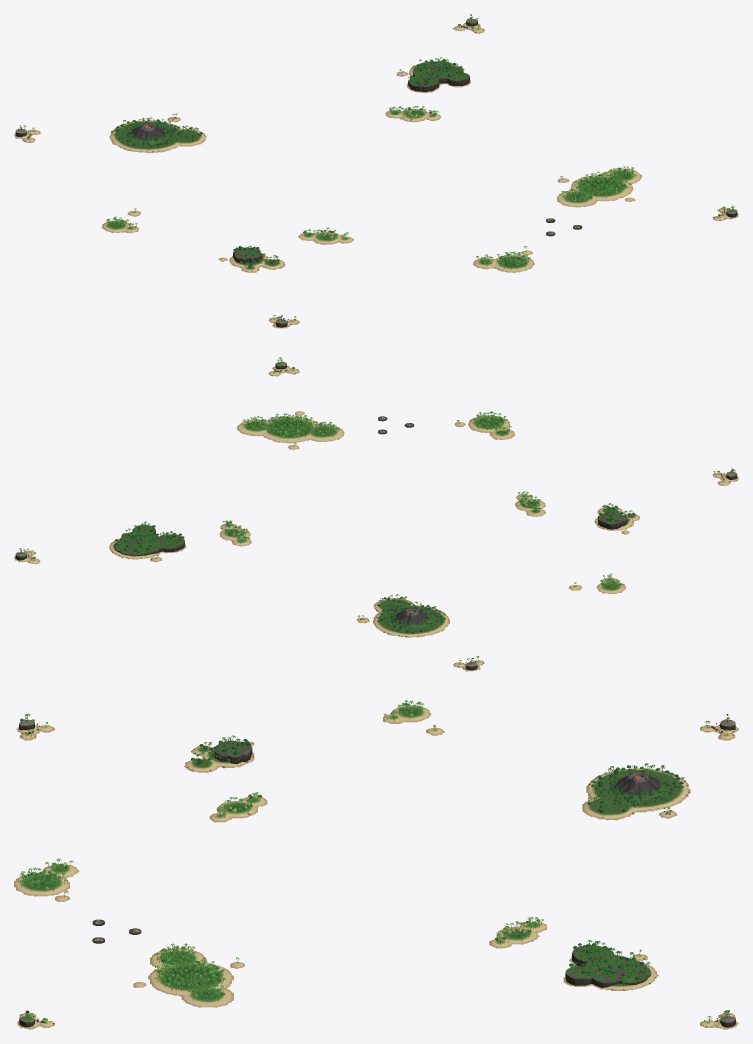
Rendered from islands.31481120.glb.
The picture shows the model from 3 angles, top to bottom: view 1: azimuth 30°, elevation 25°; view 2: azimuth 150°, elevation 25°; view 3: azimuth 270°, elevation 25°; orthographic projection. The views are drawn at different scales.
Visible parts, largest first — view 1: island_I3_lod0, island_I1_lod0, island_I4_lod0, island_I2_lod0, island_I5_lod0, island_T1_lod0, island_T2_lod0; view 2: island_I3_lod0, island_I1_lod0, island_I4_lod0, island_I5_lod0, island_I2_lod0, island_T1_lod0, island_T2_lod0; view 3: island_I3_lod0, island_I1_lod0, island_I4_lod0, island_I2_lod0, island_I5_lod0, island_T1_lod0, island_T2_lod0, island_I6_lod0.
Part boxes in pixels (x1,y1,x2,y2): island_I3_lod0: (109,113,206,153); island_I1_lod0: (557,166,641,207); island_I4_lod0: (396,57,470,93); island_I2_lod0: (218,246,285,272); island_I5_lod0: (473,246,534,272); island_T1_lod0: (385,106,441,122); island_T2_lod0: (298,227,353,244); island_I3_lod0: (356,594,449,637); island_I1_lod0: (237,411,344,449); island_I4_lod0: (109,521,186,562); island_I5_lod0: (454,411,514,439); island_I2_lod0: (594,503,640,534); island_T1_lod0: (219,520,251,546); island_T2_lod0: (515,491,545,516); island_I3_lod0: (582,763,690,820); island_I1_lod0: (133,943,244,1007); island_I4_lod0: (563,940,658,990); island_I2_lod0: (184,735,254,772); island_I5_lod0: (14,858,79,901); island_T1_lod0: (489,917,546,948); island_T2_lod0: (209,792,267,822); island_I6_lod0: (383,700,444,735).
Bounding box in the file's own units: 822 × 19.22 × 778.
Materials: 1 (1 with a texture image).
